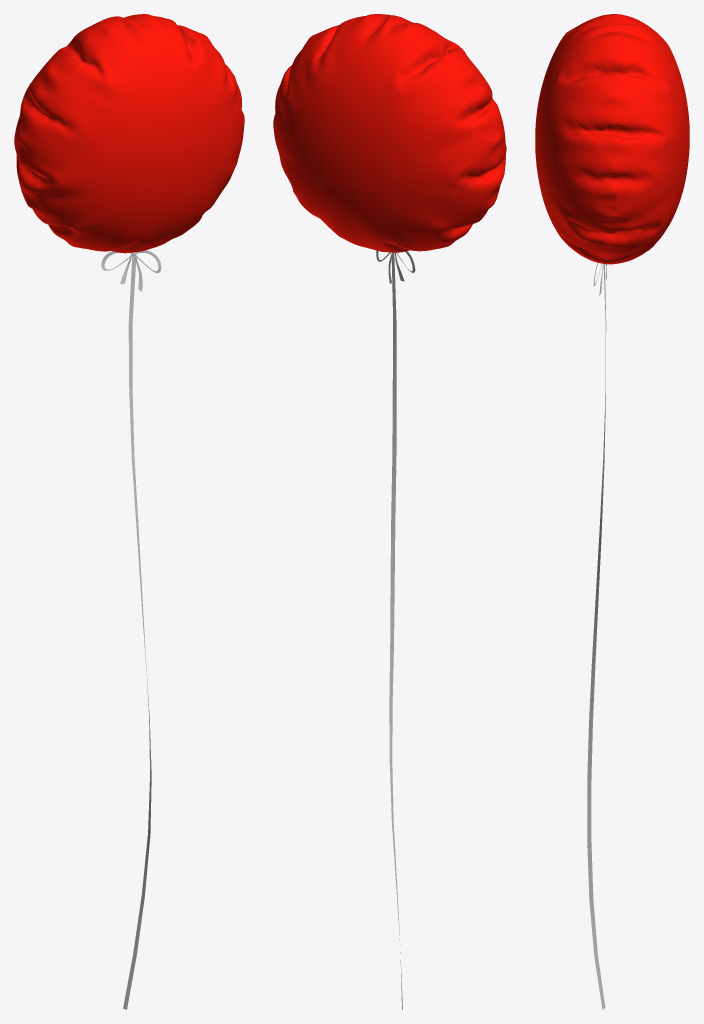
3 renders of one model, left to right at view 1: azimuth 30°, elevation 25°; view 2: azimuth 150°, elevation 25°; view 3: azimuth 270°, elevation 25°, orthographic.
Parts seen in each view (by area): view 1: Valentines-Round-blank; view 2: Valentines-Round-blank; view 3: Valentines-Round-blank.
Part boxes in pixels (bbox=[...]): Valentines-Round-blank: bbox=[14, 14, 244, 1009]; Valentines-Round-blank: bbox=[273, 14, 506, 1009]; Valentines-Round-blank: bbox=[535, 14, 689, 1009].
Bounding box in the file's own units: 40.89 × 176 × 24.99.
